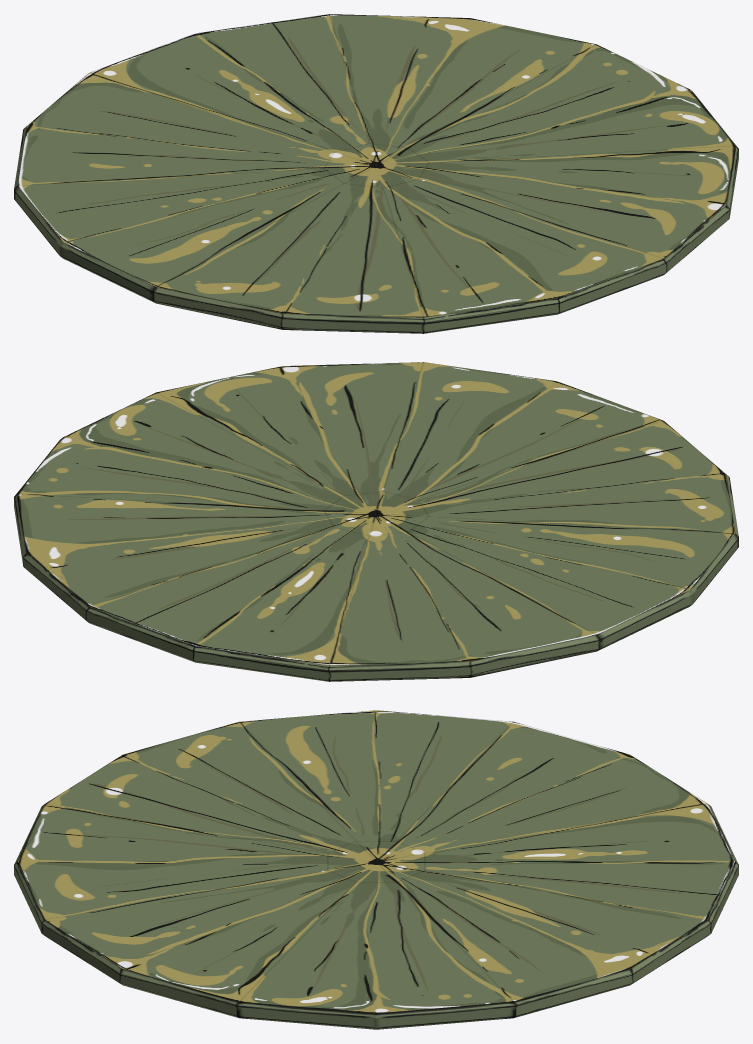
The model's file is GreenLilyPads-mockup005.fbx.
3 views of the same model, one above another, from view 1: azimuth 30°, elevation 25°; view 2: azimuth 150°, elevation 25°; view 3: azimuth 270°, elevation 25° (orthographic).
Parts seen in each view (by area): view 1: Cylinder.004; view 2: Cylinder.004; view 3: Cylinder.004.
Part boxes in pixels (x1,y1,x2,y2): Cylinder.004: (14,14,738,333); Cylinder.004: (14,362,738,681); Cylinder.004: (14,710,738,1029).
Bounding box in the file's own units: 4000 × 99.46 × 4000.
